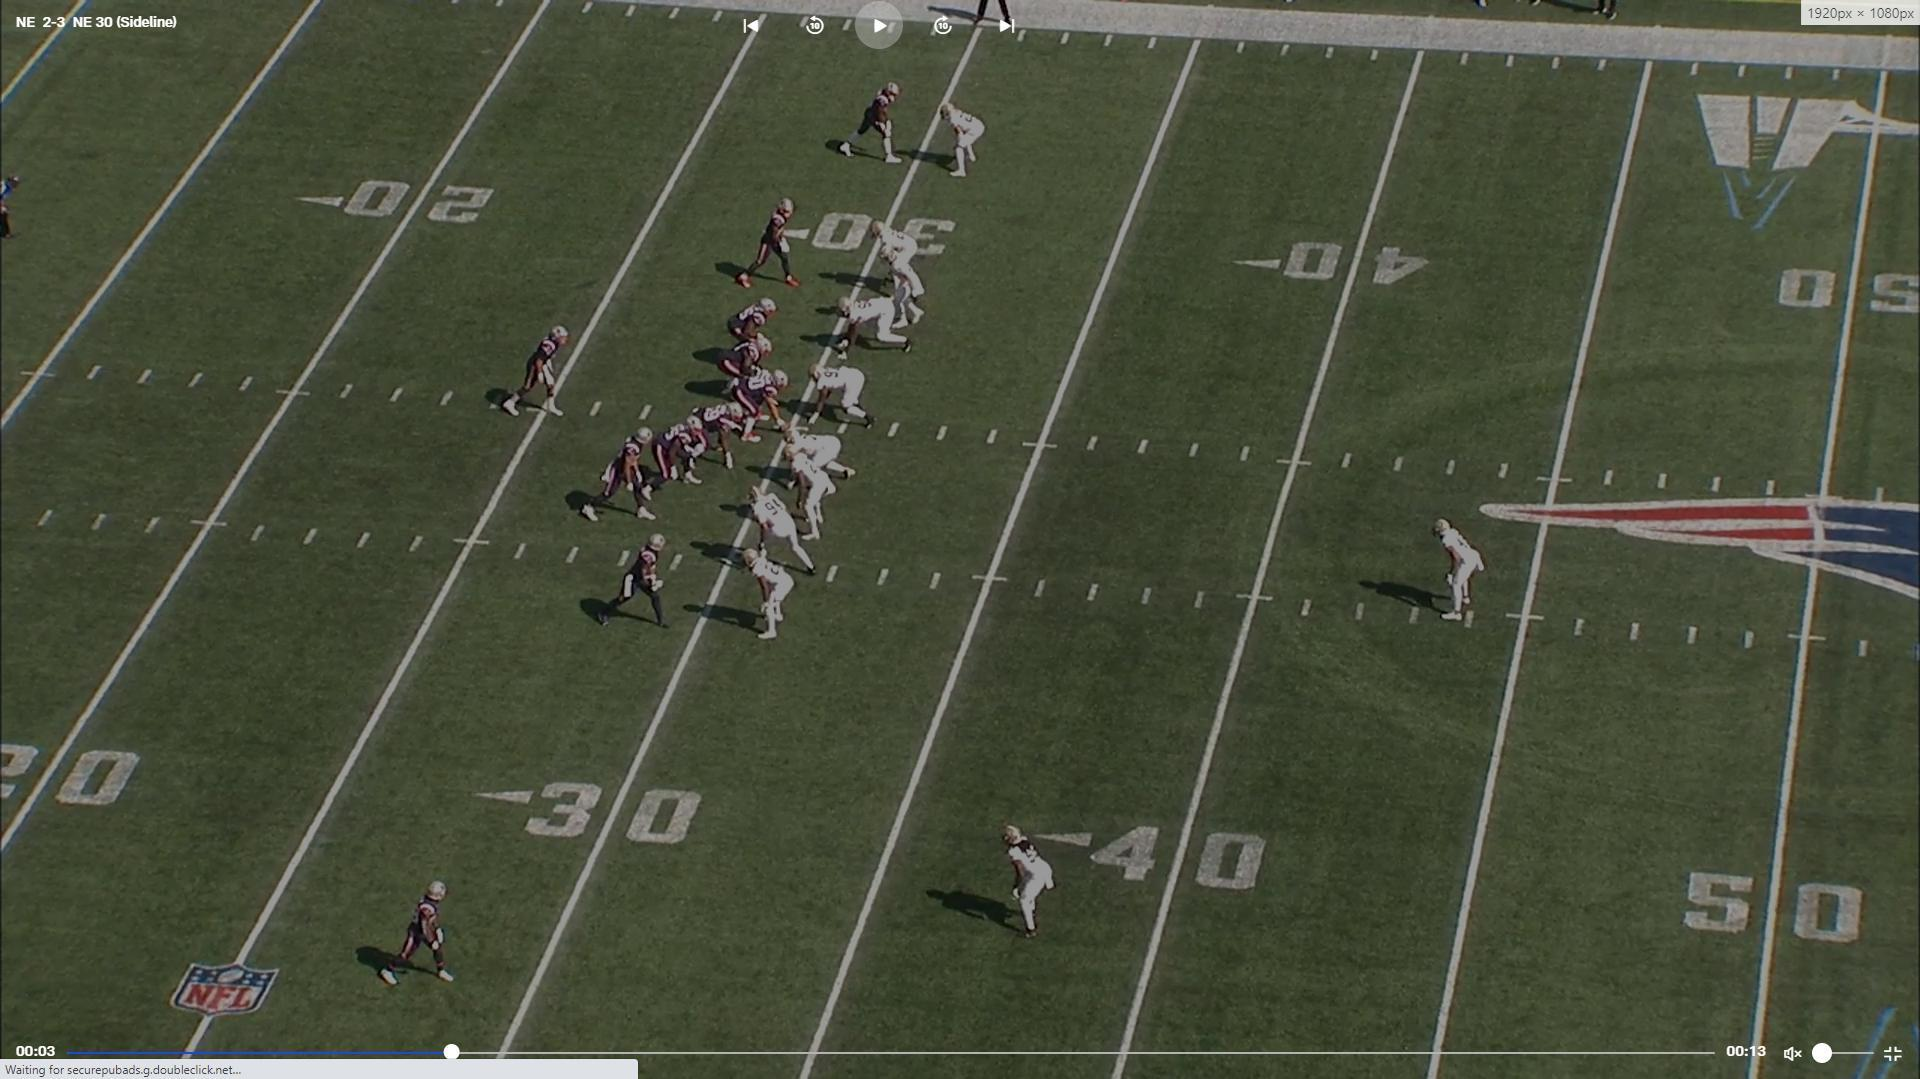player: (380, 872, 464, 988), (581, 425, 662, 526), (595, 533, 675, 631), (733, 195, 807, 295), (746, 479, 819, 580), (502, 320, 573, 420), (1001, 823, 1060, 943), (832, 78, 909, 168), (1434, 516, 1488, 626), (788, 438, 841, 545), (832, 292, 916, 357), (643, 413, 703, 502), (803, 366, 878, 435), (743, 547, 796, 643), (783, 429, 862, 493), (731, 370, 796, 443), (688, 401, 752, 475), (878, 244, 927, 332), (725, 293, 780, 369), (940, 101, 990, 182), (720, 336, 778, 401), (869, 219, 919, 268)
ref: (0, 172, 19, 270), (966, 0, 1017, 32)
